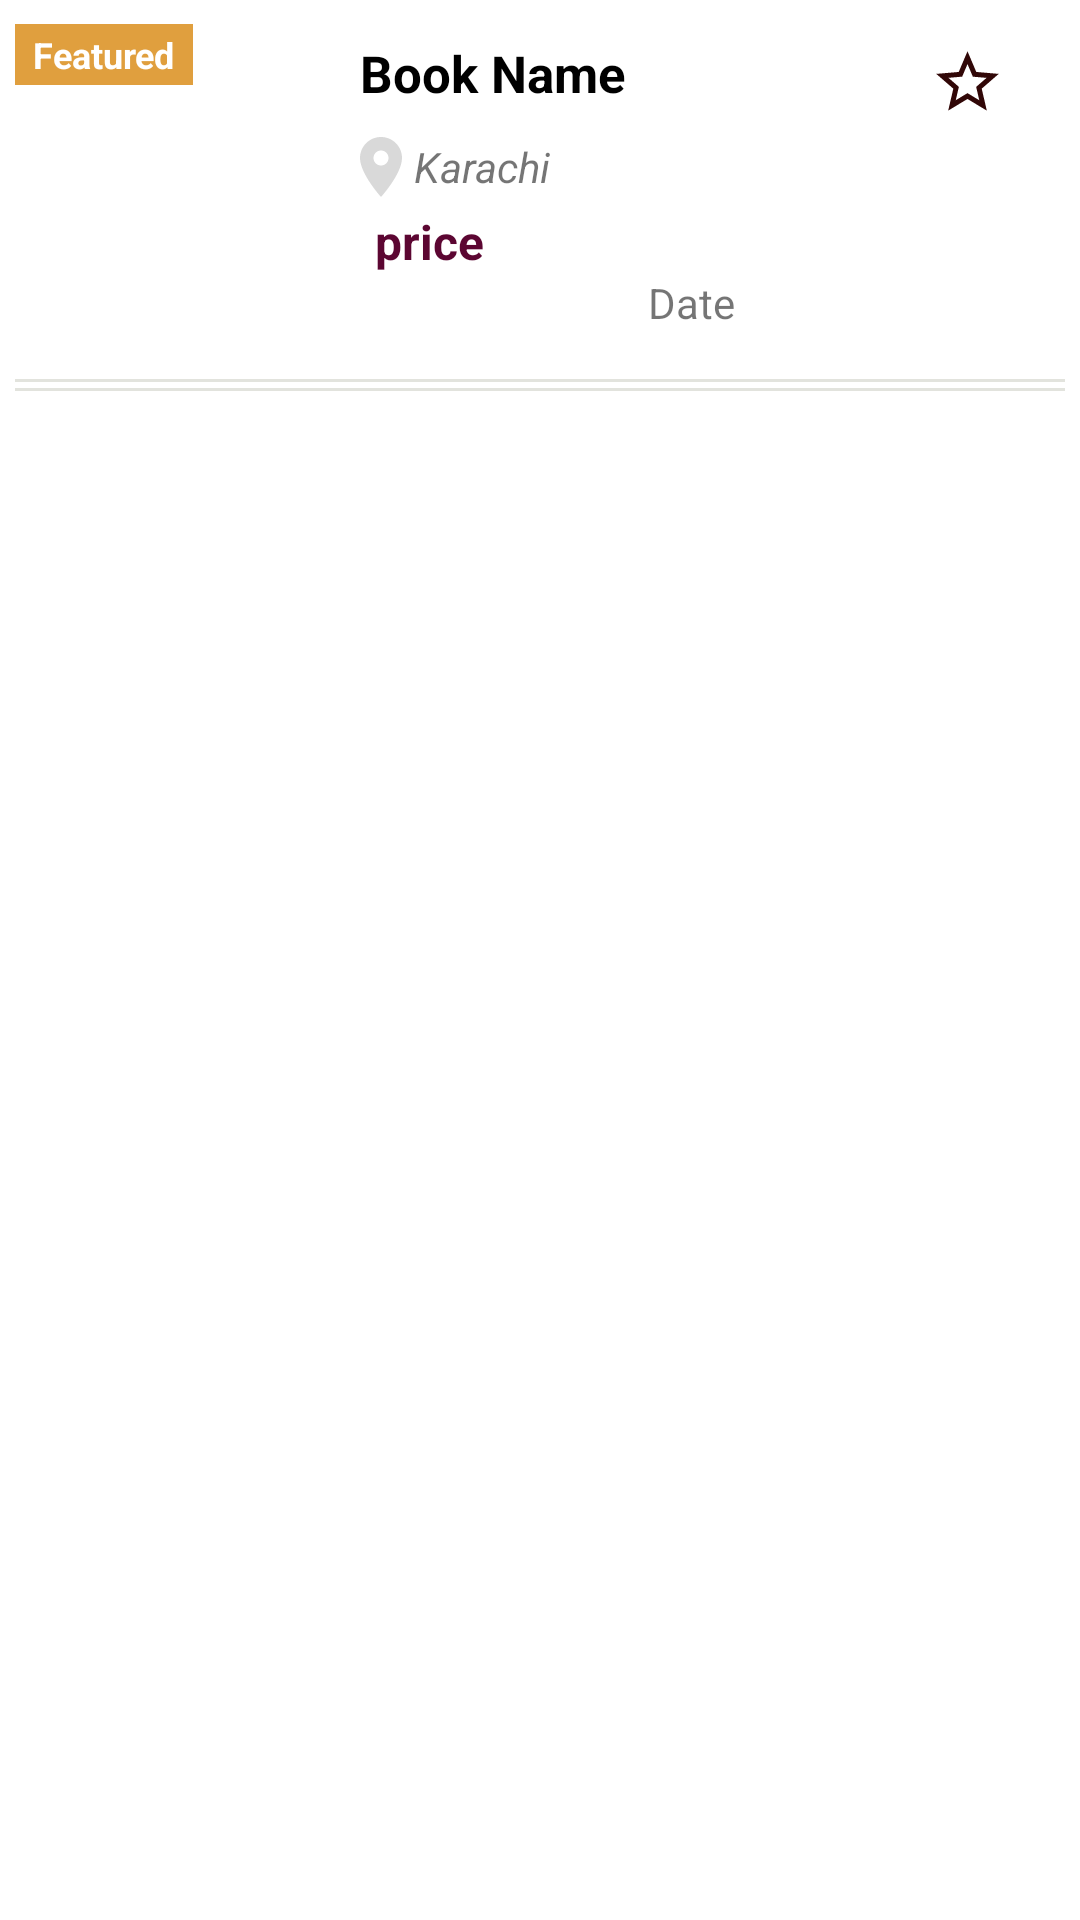

Icon bounding boxes for this 1080w x 1920h phone screenshot, format (x1,y1,x2,y2):
Favourite: (936,51,999,111)
Location: (360,137,402,196)
